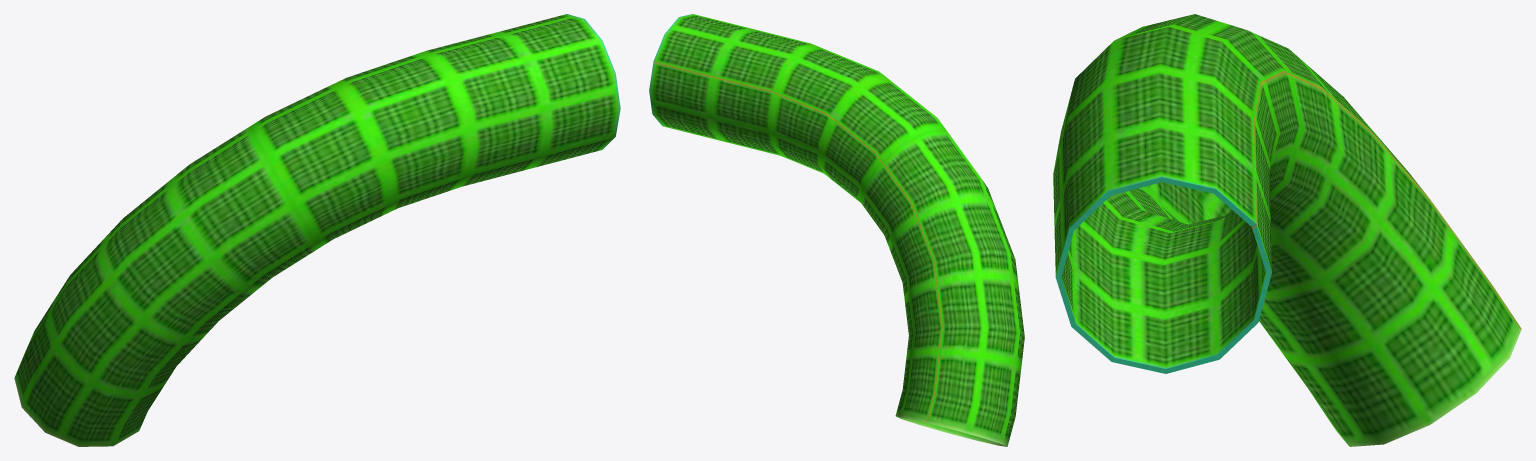
The model's file is ringCurve2.fbx.
3 renders of one model, left to right at view 1: azimuth 30°, elevation 25°; view 2: azimuth 150°, elevation 25°; view 3: azimuth 270°, elevation 25°, orthographic. The views are drawn at different scales.
Visible parts, largest first — view 1: ringCurve2; view 2: ringCurve2; view 3: ringCurve2.
Part boxes in pixels (box(x1,y1,x2,y2)): ringCurve2: box(14, 14, 620, 446); ringCurve2: box(649, 14, 1024, 446); ringCurve2: box(1053, 14, 1521, 446).
Size of the model in its own units: 255 by 187 by 140.
1 material, 1 textured.
